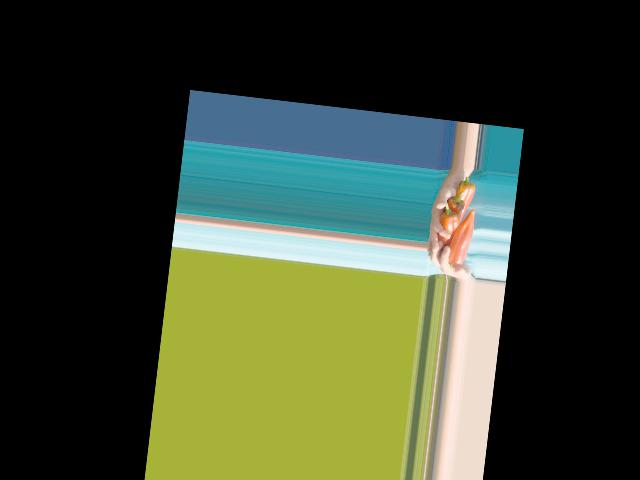bell_pepper: (452, 175, 476, 214)
